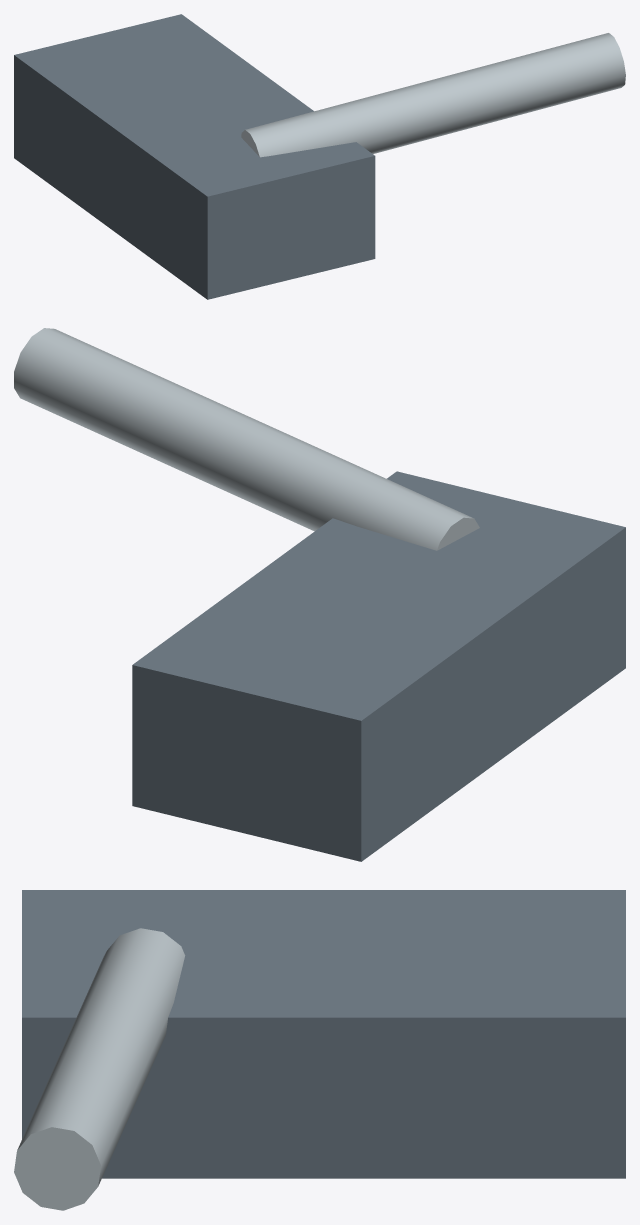
Rendered from perseverance_sampling.transfer_mechanism.glb.
The picture shows the model from 3 angles, top to bottom: view 1: azimuth 30°, elevation 25°; view 2: azimuth 150°, elevation 25°; view 3: azimuth 270°, elevation 25°; orthographic projection. The views are drawn at different scales.
Visible parts, largest first — view 1: perseverance_sampling.transfer_mechanism.mesh_Machined_steel, perseverance_sampling.transfer_mechanism.mesh_Satin_aluminum; view 2: perseverance_sampling.transfer_mechanism.mesh_Machined_steel, perseverance_sampling.transfer_mechanism.mesh_Satin_aluminum; view 3: perseverance_sampling.transfer_mechanism.mesh_Machined_steel, perseverance_sampling.transfer_mechanism.mesh_Satin_aluminum.
Boxes of the visible parts, x1,y1,x2,y2 form: perseverance_sampling.transfer_mechanism.mesh_Machined_steel: (14,14,375,299); perseverance_sampling.transfer_mechanism.mesh_Satin_aluminum: (241,33,625,157); perseverance_sampling.transfer_mechanism.mesh_Machined_steel: (132,471,625,861); perseverance_sampling.transfer_mechanism.mesh_Satin_aluminum: (14,328,479,550); perseverance_sampling.transfer_mechanism.mesh_Machined_steel: (22,890,625,1178); perseverance_sampling.transfer_mechanism.mesh_Satin_aluminum: (14,928,185,1210).
Bounding box in the file's own units: 0.4293 × 0.1496 × 0.3445.
